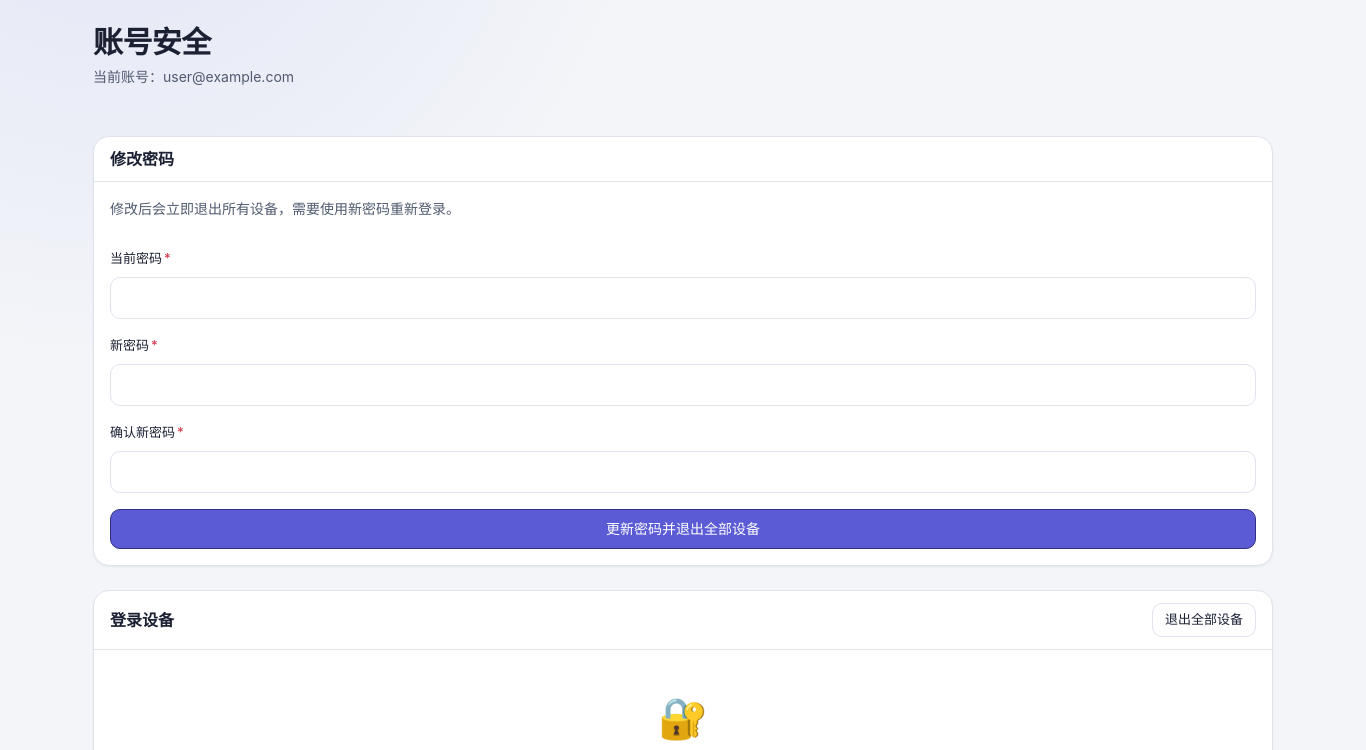
community account security pages › keeps the session when the current password is rejected
Type "Wrong-Office#2026" into the password field labelled "当前密码*" at (683, 298), box [110,277,1256,319]
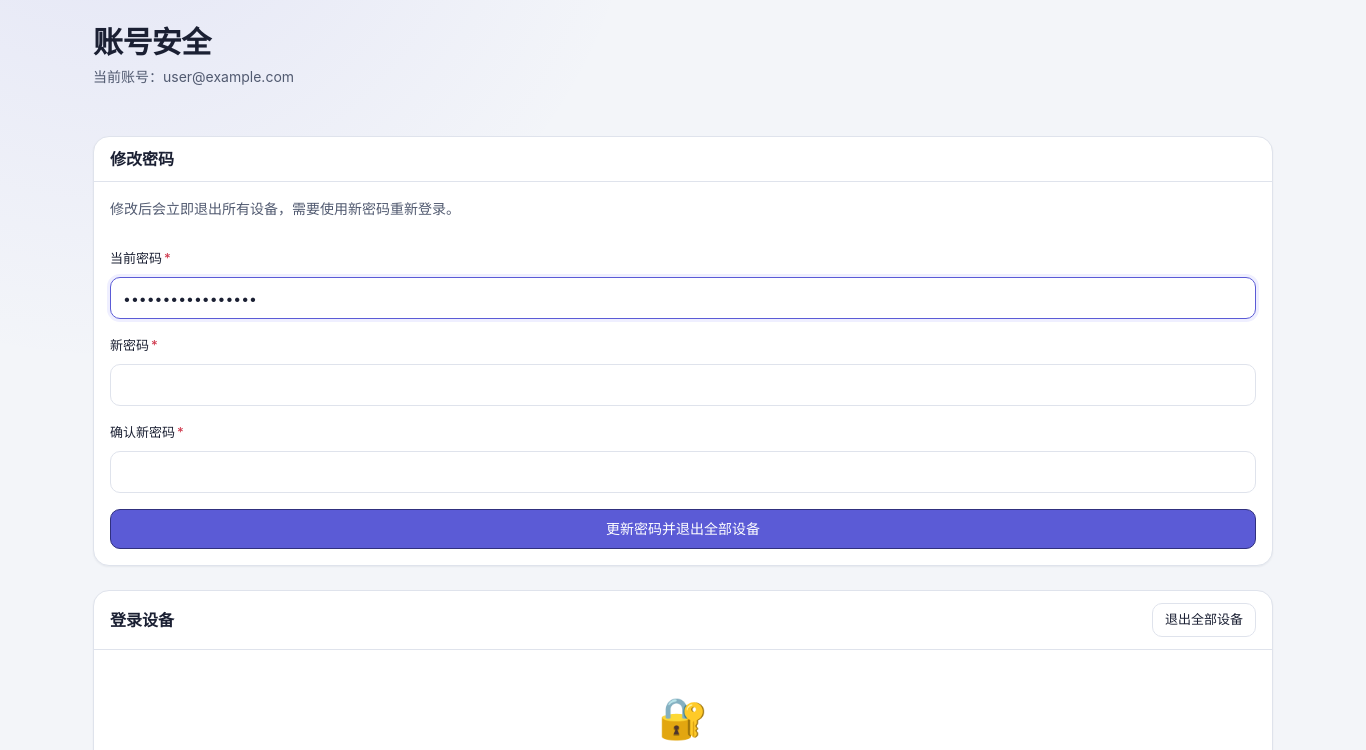
Type "Changed-Office#2026" into the password field labelled "新密码*" at (683, 385), box [110,364,1256,406]
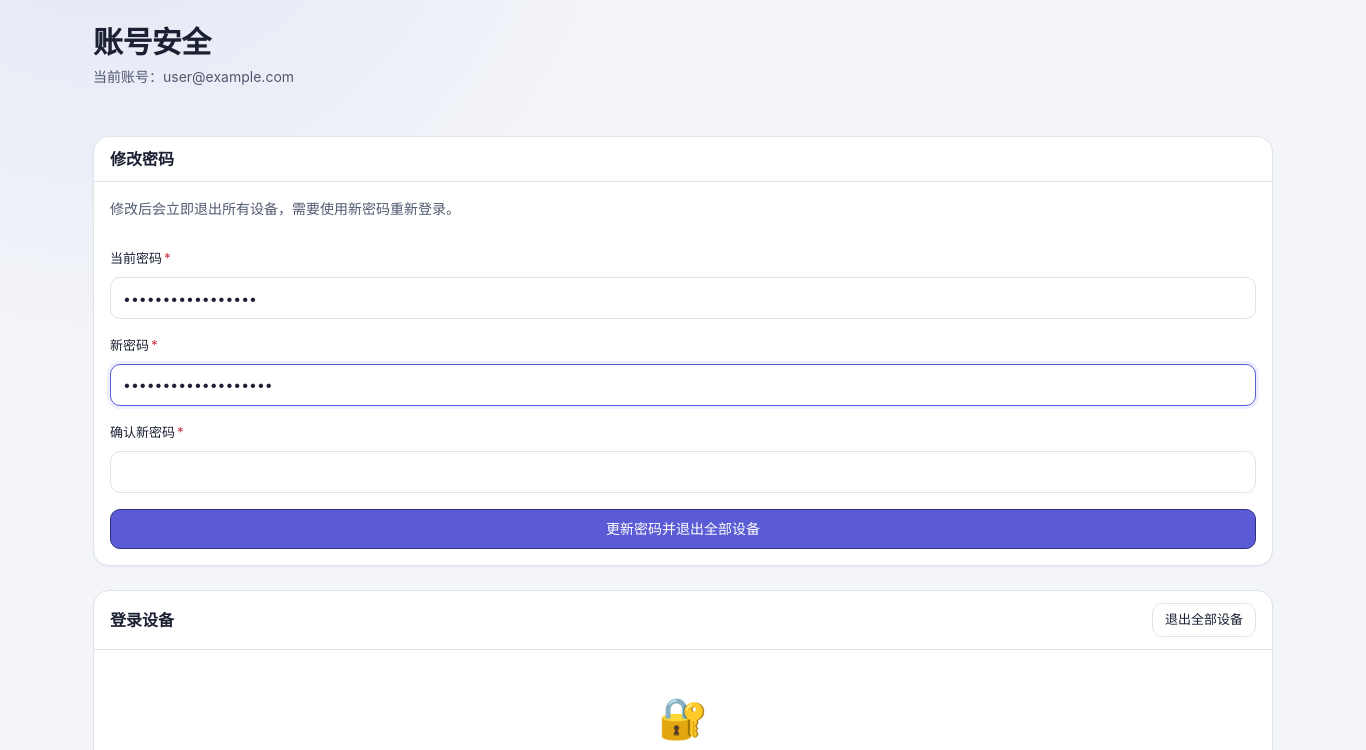
Type "Changed-Office#2026" into the password field labelled "确认新密码*" at (683, 472), box [110,451,1256,493]
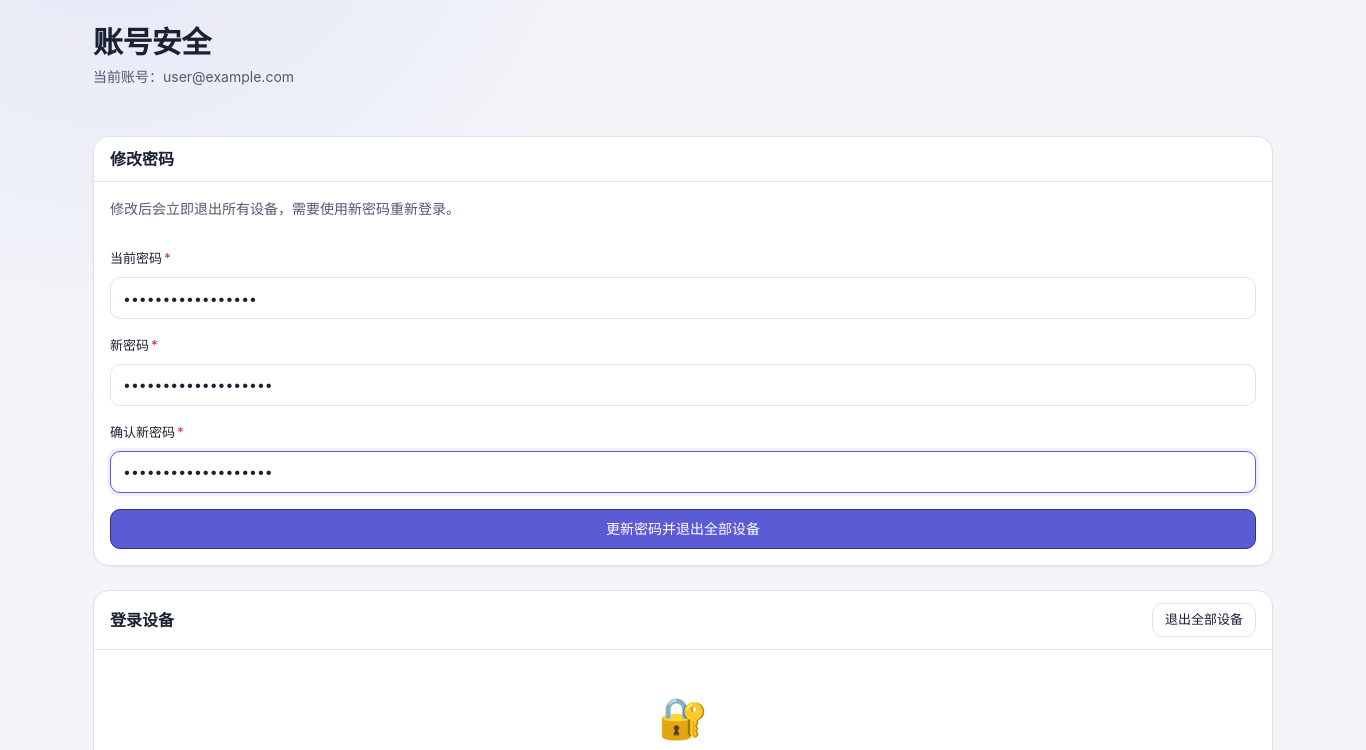
Click the button "更新密码并退出全部设备" at (683, 529), box [110,509,1256,549]
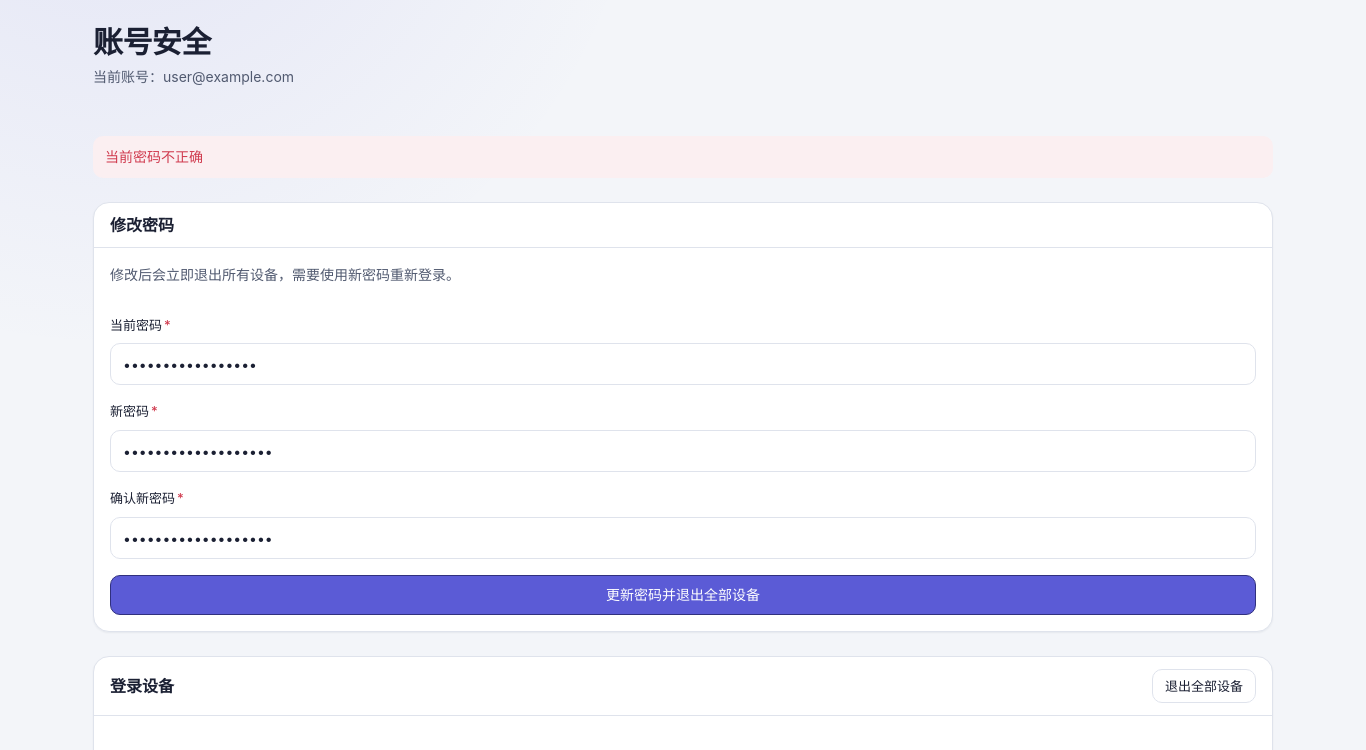
Now the message reads "当前密码不正确", box [105,148,203,165]
